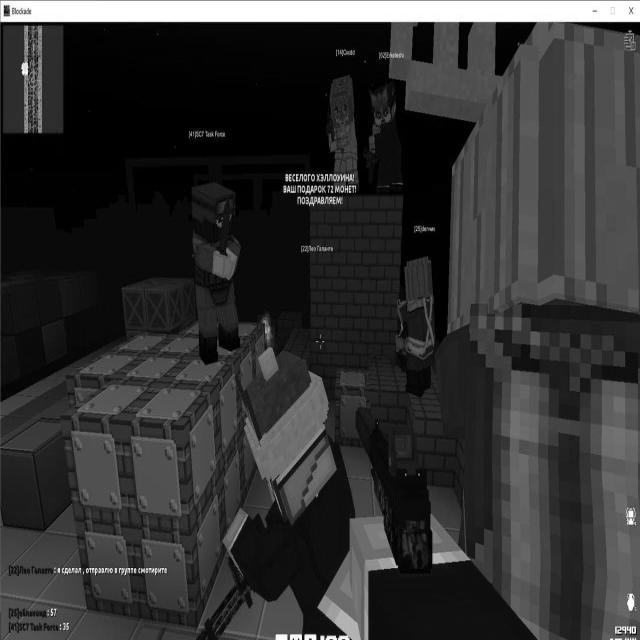Head: (449, 23, 640, 325), (252, 387, 336, 517), (192, 184, 236, 244), (404, 257, 434, 298), (329, 80, 353, 125), (371, 84, 396, 124)
Player: (450, 22, 640, 640), (223, 349, 355, 640), (190, 180, 242, 364), (397, 254, 438, 401), (368, 80, 405, 195), (326, 74, 359, 200)
